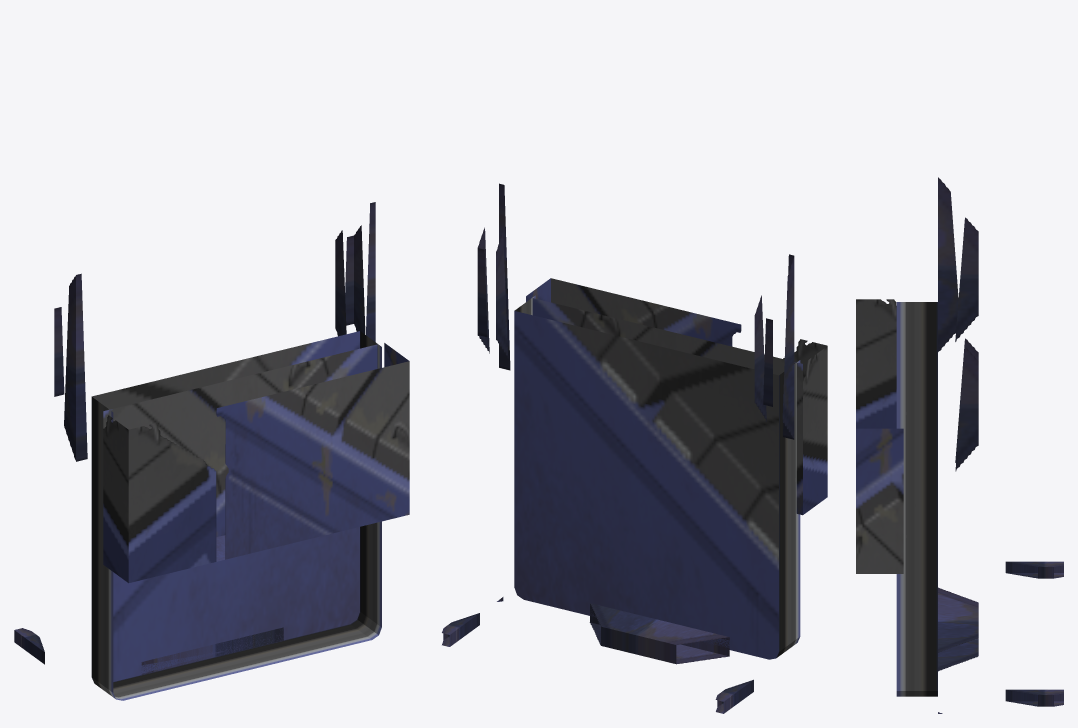
3 renders of one model, left to right at view 1: azimuth 30°, elevation 25°; view 2: azimuth 150°, elevation 25°; view 3: azimuth 270°, elevation 25°, orthographic. The views are drawn at different scales.
Size of the model in its own units: 0.96 by 1.82 by 0.61.
